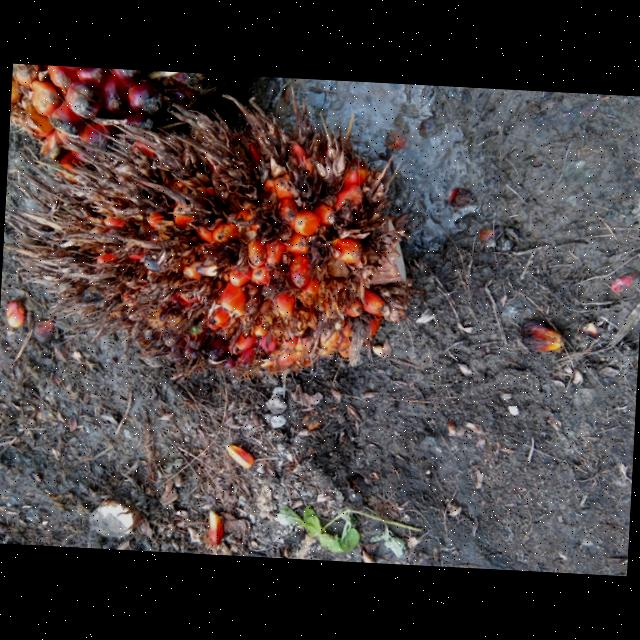Overripe: (18, 98, 413, 375)
